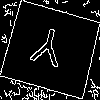Y: (26, 24, 67, 78)
